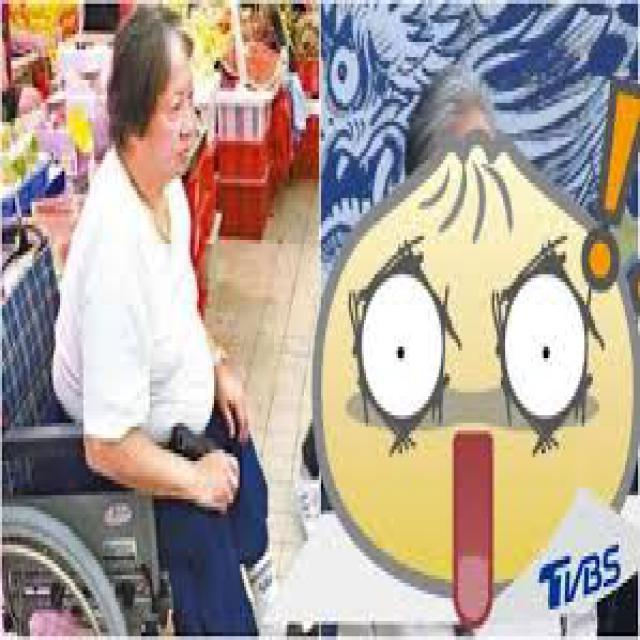wheelchairs: (0, 214, 274, 636)
